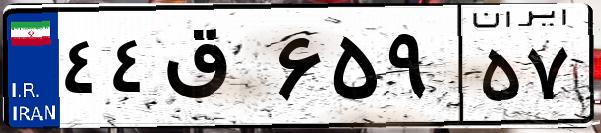4: (57, 26, 110, 100), (110, 28, 158, 98)
5: (330, 28, 385, 110), (475, 38, 525, 113)
6: (270, 28, 330, 110)
7: (525, 38, 570, 115)
9: (385, 28, 445, 110)
ق: (158, 20, 270, 120)
